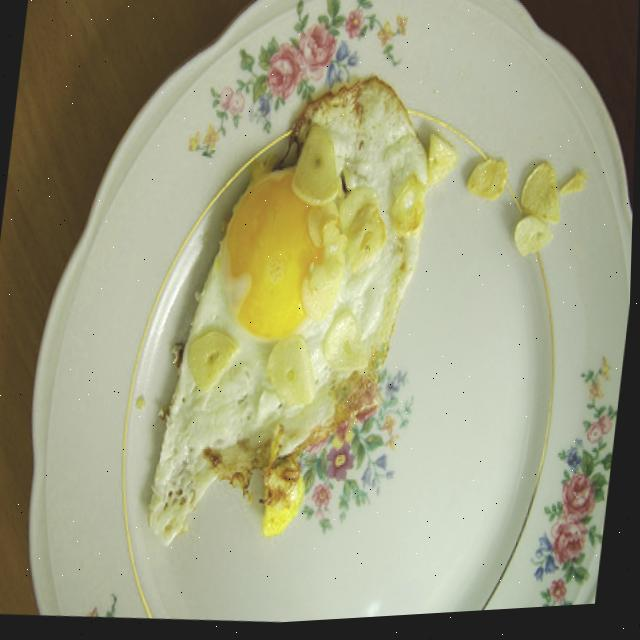鸡蛋料理: (9, 0, 640, 639)
